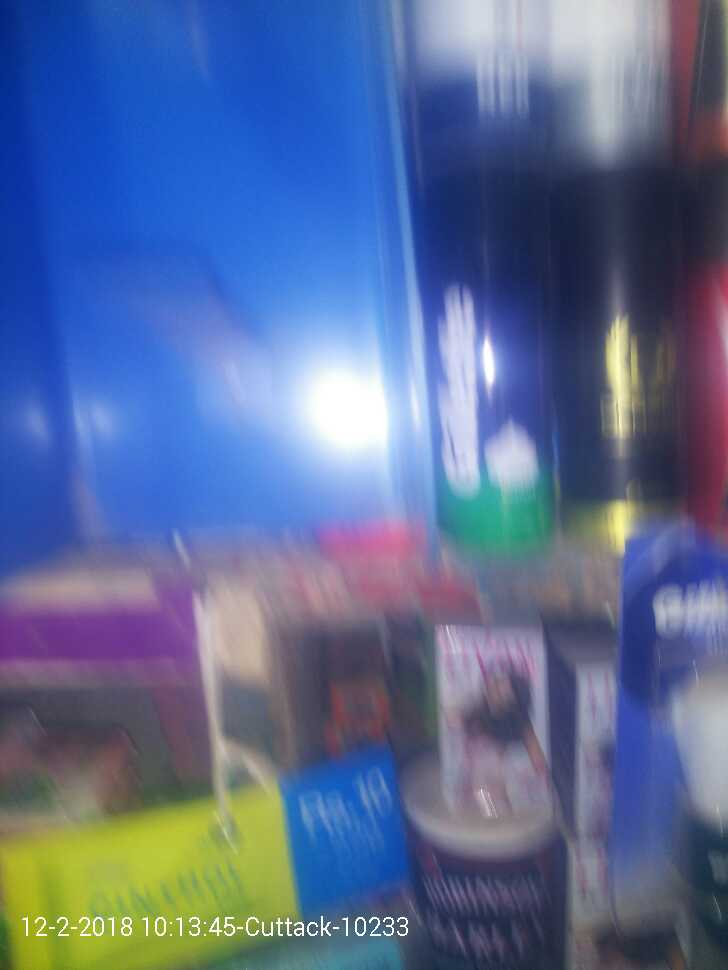reject: (205, 266, 369, 394)
